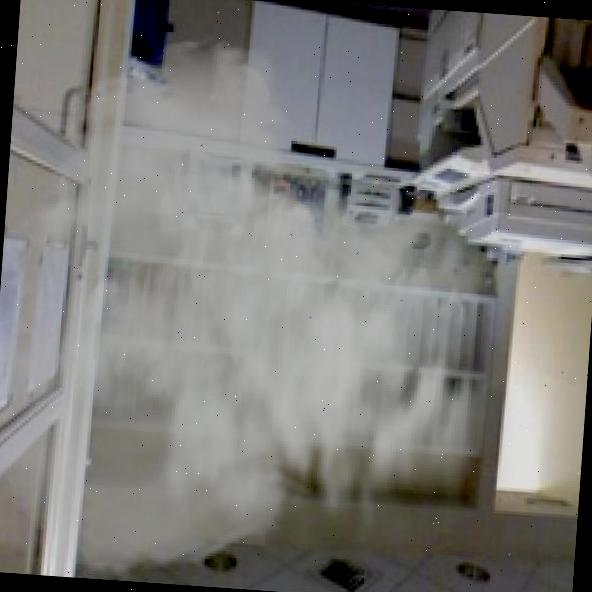smoke: (173, 213, 464, 423)
